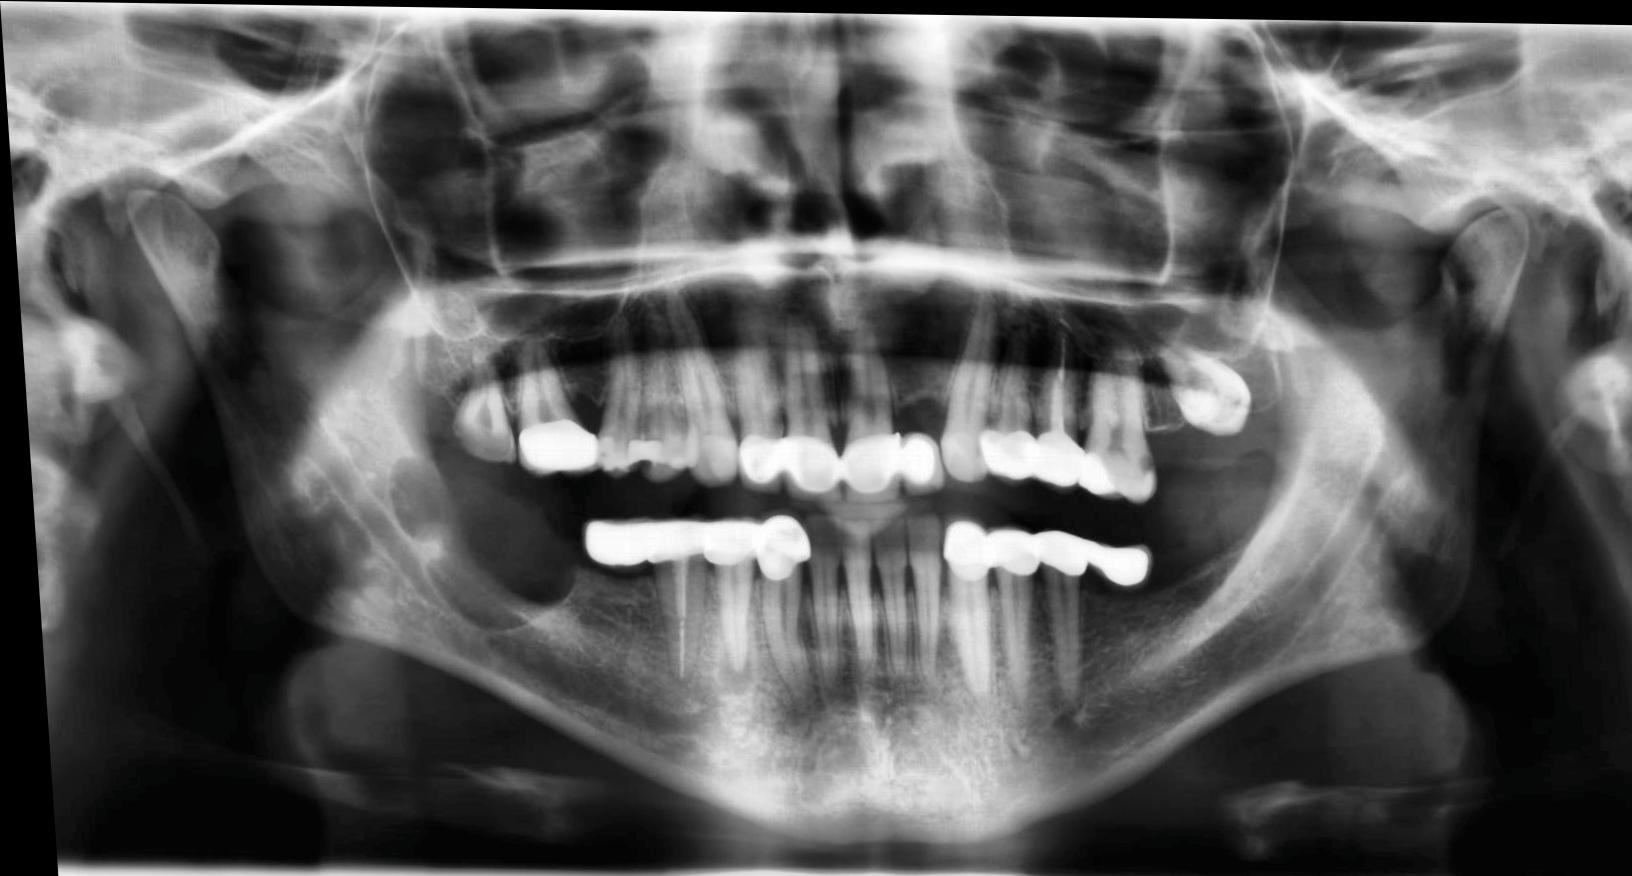okc: (379, 452, 573, 633)
